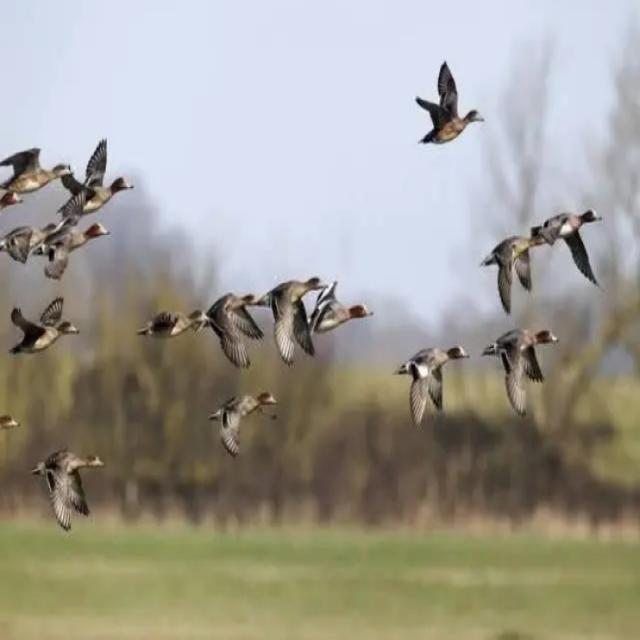bird: (409, 45, 497, 148), (482, 324, 570, 416), (22, 437, 110, 528), (544, 185, 612, 285), (392, 340, 472, 425), (264, 265, 324, 372), (203, 383, 286, 458), (480, 224, 545, 310), (68, 148, 146, 218), (6, 295, 84, 358), (134, 284, 210, 348), (210, 279, 262, 371), (324, 281, 384, 348), (0, 142, 70, 193), (54, 216, 119, 268), (0, 218, 50, 260)
